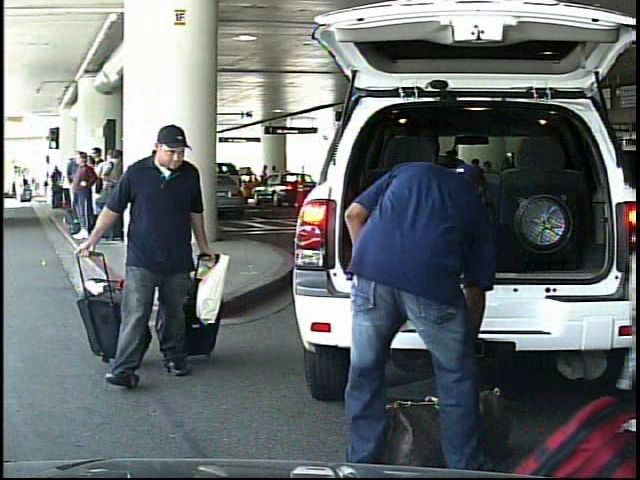person: (314, 126, 501, 476), (80, 116, 225, 399), (259, 163, 270, 198), (14, 171, 25, 202)
